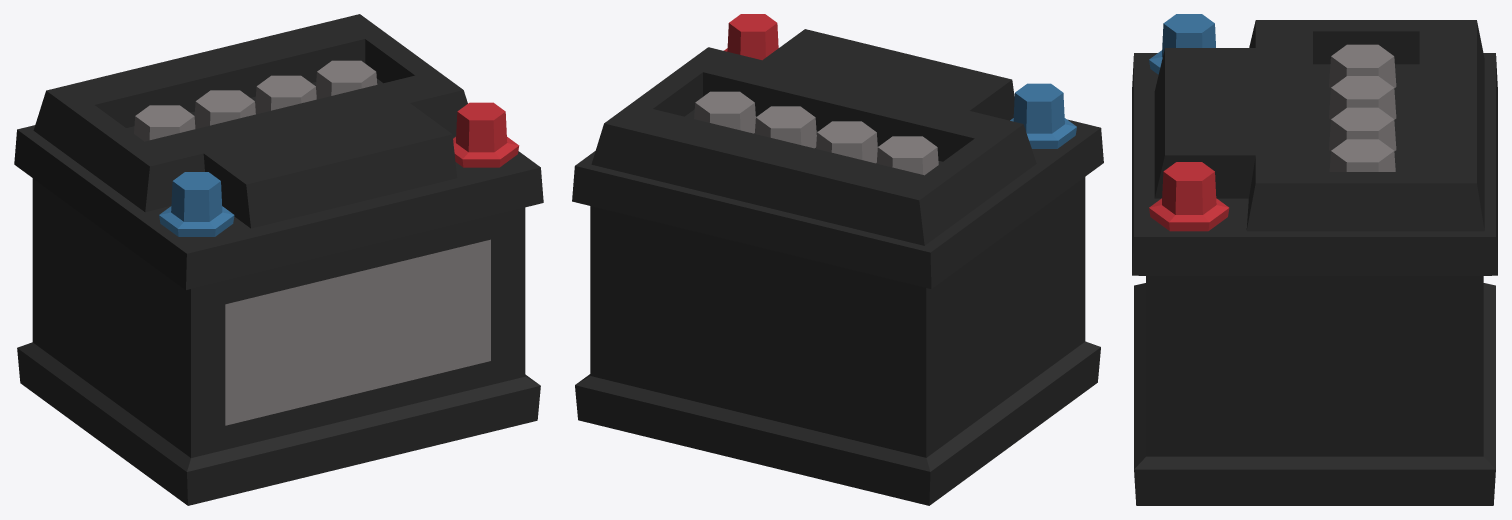
File: battery-car.glb
The picture shows the model from 3 angles, left to right: view 1: azimuth 30°, elevation 25°; view 2: azimuth 150°, elevation 25°; view 3: azimuth 270°, elevation 25°; orthographic projection. The views are drawn at different scales.
Parts seen in each view (by area): view 1: battery-car; view 2: battery-car; view 3: battery-car.
Boxes of the visible parts, box(x1,y1,x2,y2) form: battery-car: box(14, 14, 543, 505); battery-car: box(572, 14, 1103, 505); battery-car: box(1132, 14, 1497, 505).
Bounding box in the file's own units: 0.2336 × 0.1863 × 0.1941.
1 material, 1 textured.
